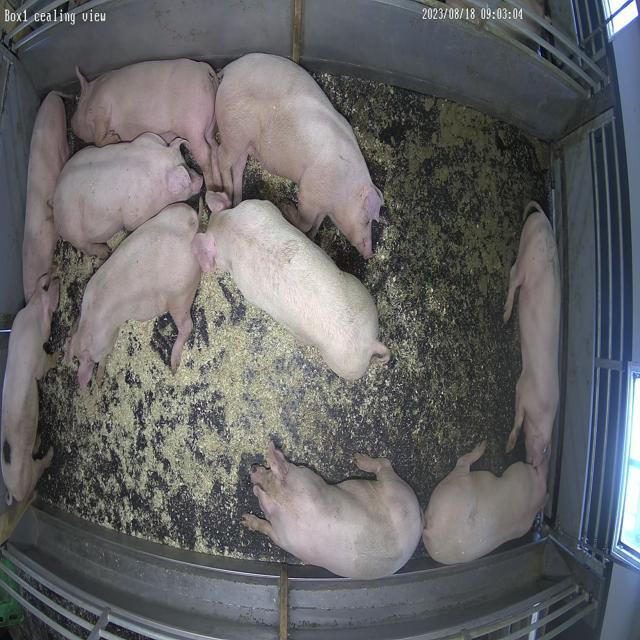Dirt: (316, 74, 548, 320)
Pig: (193, 191, 390, 380), (215, 53, 384, 258), (242, 443, 424, 580), (68, 204, 201, 390), (71, 58, 222, 190), (53, 132, 203, 256), (505, 201, 562, 482), (423, 442, 547, 566), (1, 279, 58, 504), (22, 91, 69, 300)
